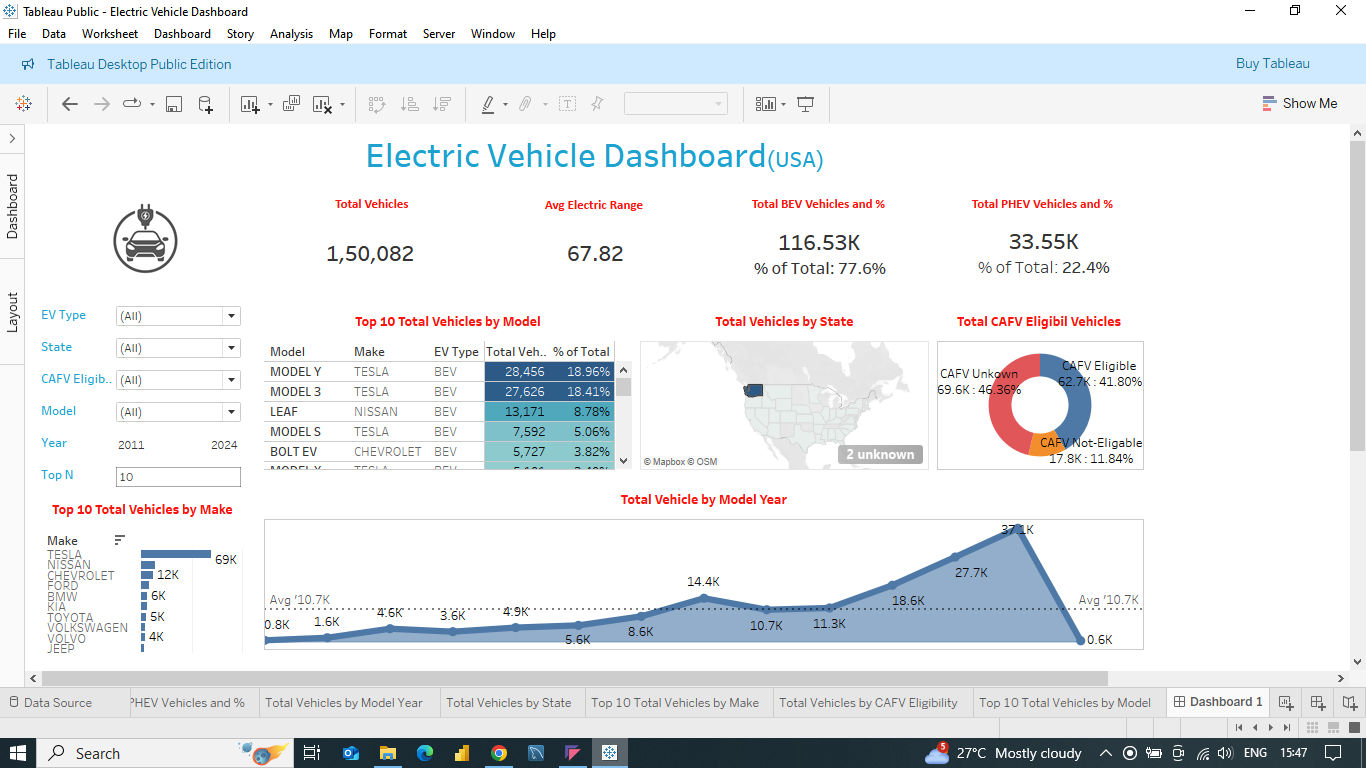

This screenshot's page, from the dashboard's own definition file:
{"tool":"tableau","page":{"name":"Dashboard 1","canvas":[1600,900],"ordinal":0},"visuals":[{"type":"text","box":[0,4,1139,52]},{"type":"image","param":"Image/istockphoto-[number redacted]-612x612.jpg","box":[8,64,225,100]},{"type":"worksheet","title":" Total Vehicles","mark":"Automatic","box":[233,64,225,100]},{"type":"worksheet","title":"Avg Electric Range ","mark":"Automatic","box":[458,64,225,100]},{"type":"worksheet","title":"Total BEV Vehicles and % ","mark":"Automatic","box":[683,64,224,100]},{"type":"worksheet","title":"Total PHEV Vehicles and %","mark":"Automatic","box":[907,64,224,100]},{"type":"filter","title":"Top 10 Total Vehicles by Make","param":"[federated.0v1ou740uodzq919ltjnc1imtesb].[none:Electric Vehicle Type:nk]","box":[12,176,211,32]},{"type":"worksheet","title":"Top 10 Total Vehicles by Model","mark":"Square","rows":["Model","Make","Electric Vehicle Type"],"box":[235,180,376,170]},{"type":"worksheet","title":"Total Vehicles by State","mark":"Multipolygon","box":[611,180,297,170]},{"type":"worksheet","title":"Total Vehicles by CAFV Eligibility","mark":"Pie","rows":["Calculation_414894142026964993","Calculation_414894142026964993"],"box":[908,180,215,170]},{"type":"filter","title":"Top 10 Total Vehicles by Make","param":"[federated.0v1ou740uodzq919ltjnc1imtesb].[none:State:nk]","box":[12,208,211,32]},{"type":"filter","title":"Total Vehicles by Model Year ","param":"[federated.0v1ou740uodzq919ltjnc1imtesb].[none:Clean Alternative Fuel Vehicle (C","box":[12,240,211,32]},{"type":"filter","title":"Total Vehicles by Model Year ","param":"[federated.0v1ou740uodzq919ltjnc1imtesb].[none:Model:nk]","box":[12,272,211,32]},{"type":"filter","title":"Total Vehicles by Model Year ","param":"[federated.0v1ou740uodzq919ltjnc1imtesb].[none:Model Year:qk]","box":[12,304,211,32]},{"type":"parameter","param":"[Parameters].[Parameter 1]","box":[12,336,211,32]},{"type":"worksheet","title":"Total Vehicles by Model Year ","mark":"Area","rows":["Calculation_561824079848976388","Calculation_561824079848976388"],"cols":["Model Year"],"box":[235,358,888,172]},{"type":"worksheet","title":"Top 10 Total Vehicles by Make","mark":"Automatic","rows":["Make"],"cols":["Calculation_561824079848976388"],"box":[12,368,211,166]}]}

Visuals, with their boxes on the page's 1600x900 design canvas (x1, y1, x2, y2). These are canvas units, not pixel positions in the 1366x768 screenshot, which may show the page scaled, cropped or inside an application window:
text: 0/4/1139/56
image: 8/64/233/164
" Total Vehicles" worksheet: 233/64/458/164
"Avg Electric Range " worksheet: 458/64/683/164
"Total BEV Vehicles and % " worksheet: 683/64/907/164
"Total PHEV Vehicles and %" worksheet: 907/64/1131/164
"Top 10 Total Vehicles by Make" filter: 12/176/223/208
"Top 10 Total Vehicles by Model" worksheet (Square marks): 235/180/611/350
"Total Vehicles by State" worksheet (Multipolygon marks): 611/180/908/350
"Total Vehicles by CAFV Eligibility" worksheet (Pie marks): 908/180/1123/350
"Top 10 Total Vehicles by Make" filter: 12/208/223/240
"Total Vehicles by Model Year " filter: 12/240/223/272
"Total Vehicles by Model Year " filter: 12/272/223/304
"Total Vehicles by Model Year " filter: 12/304/223/336
parameter: 12/336/223/368
"Total Vehicles by Model Year " worksheet (Area marks): 235/358/1123/530
"Top 10 Total Vehicles by Make" worksheet: 12/368/223/534
